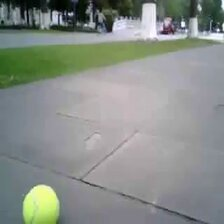tennis: (22, 184, 59, 224)
